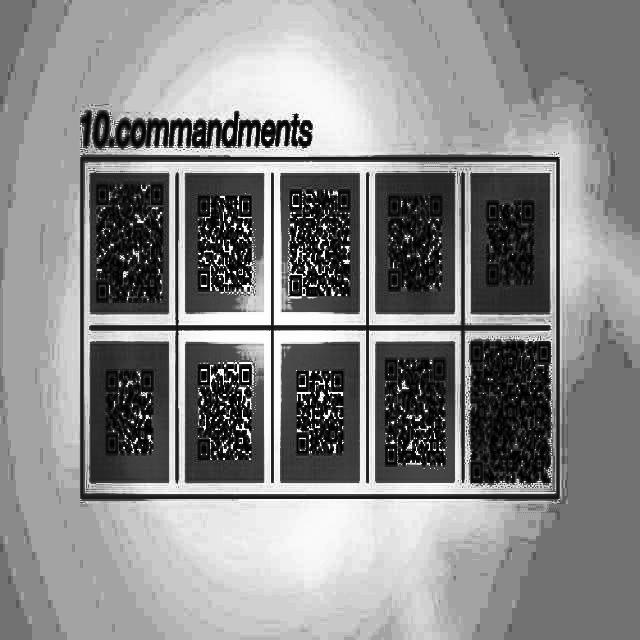qr_code: (471, 342, 549, 483), (96, 185, 161, 301), (291, 189, 350, 294), (385, 360, 444, 465), (198, 364, 251, 458), (198, 196, 251, 289), (388, 196, 440, 289), (105, 369, 152, 453), (297, 371, 343, 453), (487, 201, 533, 283)
